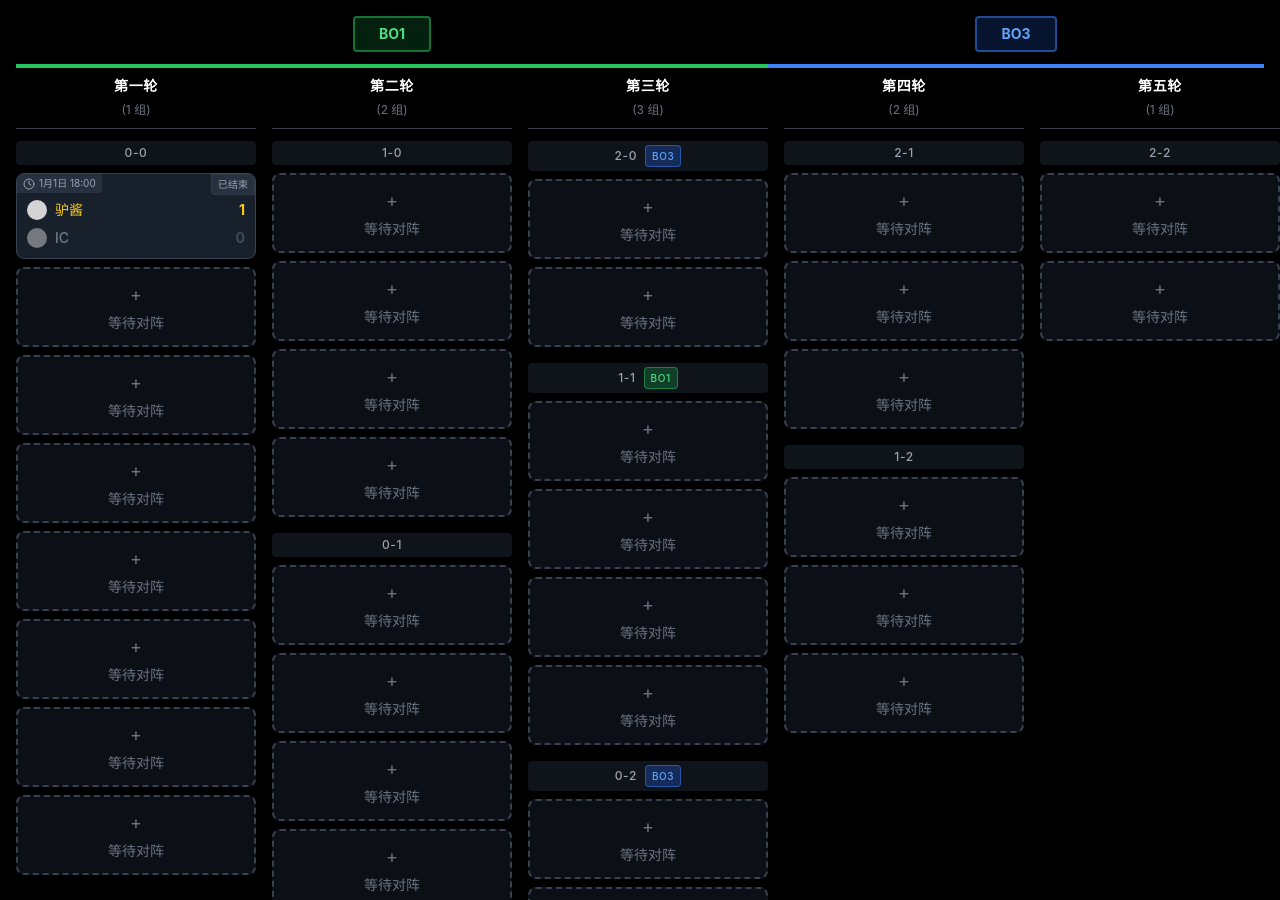
Test: SwissStageVisualEditor 点击编辑功能 › 点击已有比赛卡片应弹出编辑界面
Expected: the text "已结束" is shown, [211,174,255,195]
Click the element showing "已结束 1月1日 18:00 驴酱 1 IC 0": (136, 216) [16,173,256,259]
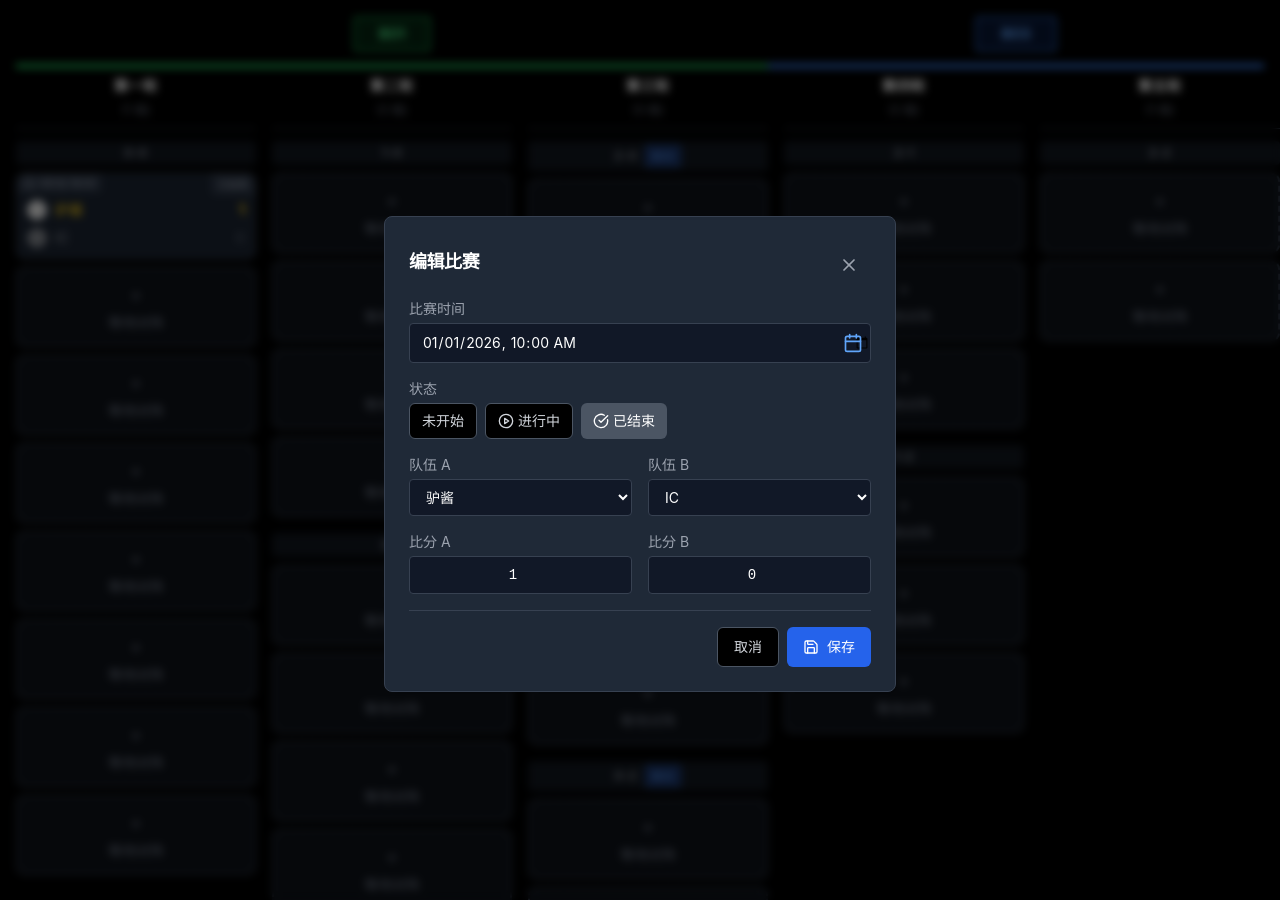
Expected: the button "保存" is shown, [787,627,871,667]
Expected: the button "取消" is shown, [717,627,779,667]
